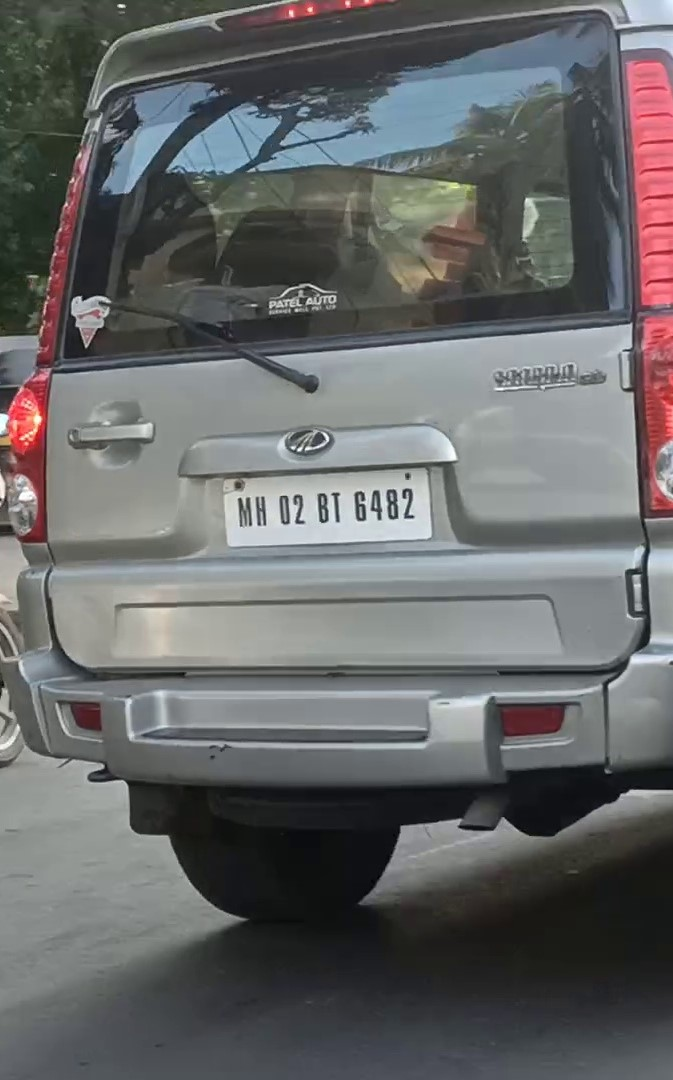MH02BT6482: (222, 465, 432, 547)
